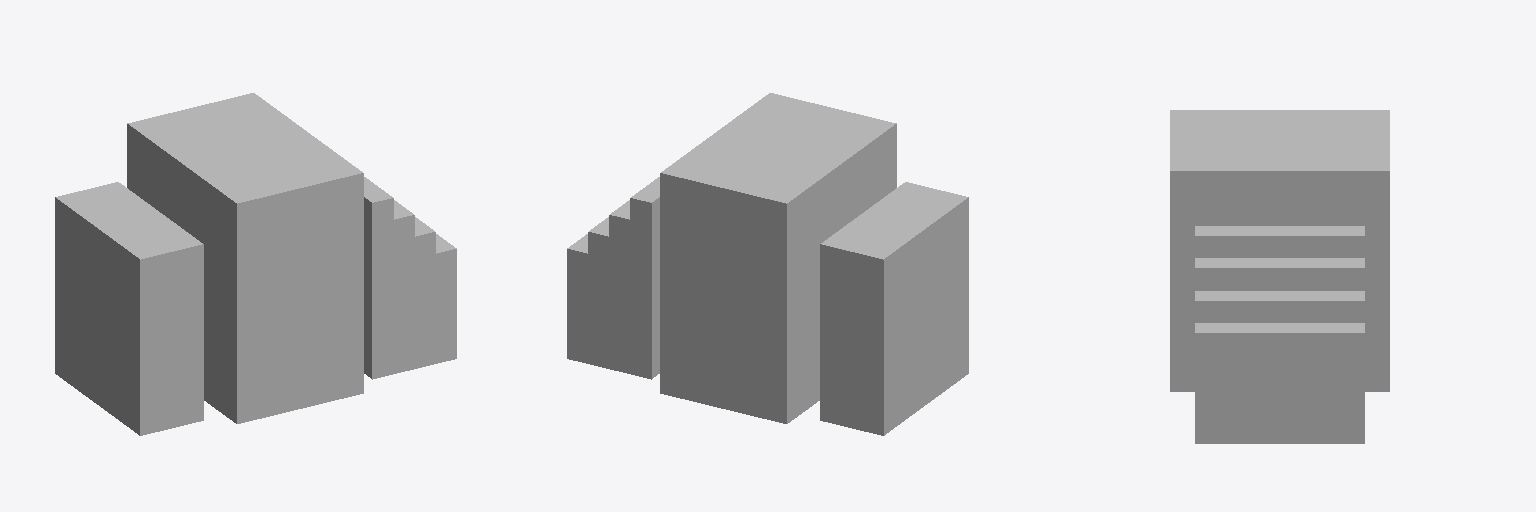
The picture shows the model from 3 angles: view 1: azimuth 30°, elevation 25°; view 2: azimuth 150°, elevation 25°; view 3: azimuth 270°, elevation 25°; orthographic projection.
Visible parts, largest first — view 1: object 1; view 2: object 1; view 3: object 1.
Part boxes in pixels (bbox=[...]): object 1: bbox=[55, 93, 456, 435]; object 1: bbox=[567, 93, 968, 435]; object 1: bbox=[1170, 110, 1389, 443].
Bounding box in the file's own units: 1.5 × 1 × 0.9.
1 materials, 1 textured.